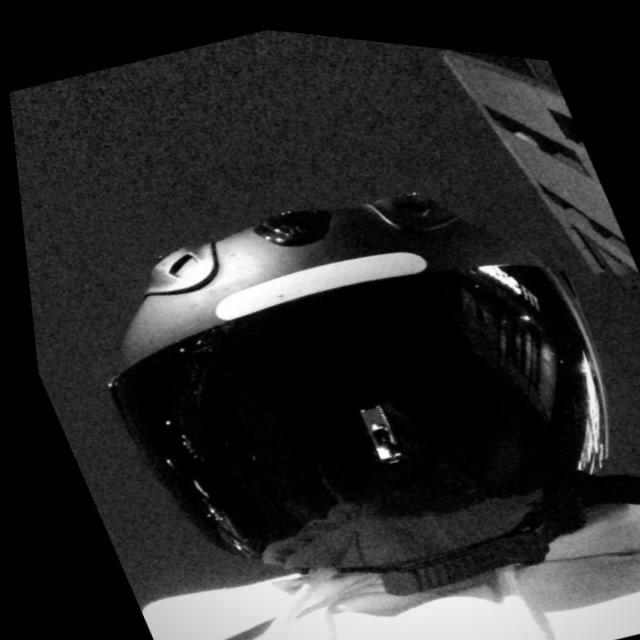Helmet: (103, 187, 627, 587)
